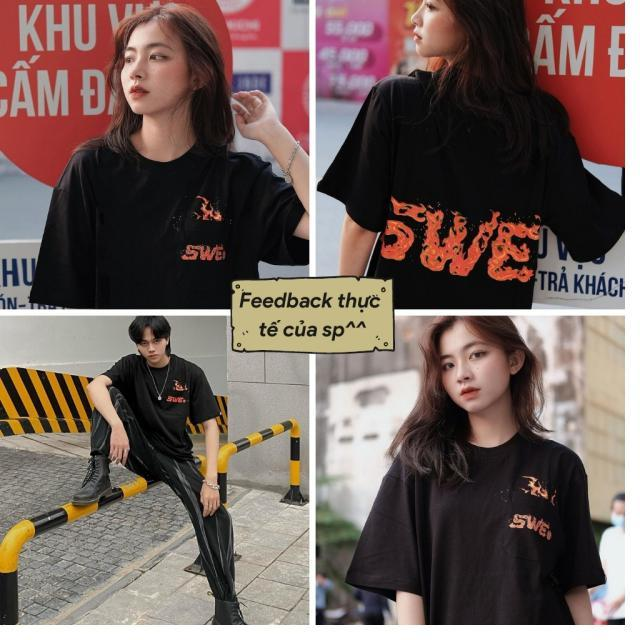Shirt: (320, 71, 626, 312), (343, 414, 614, 624), (22, 124, 312, 310), (101, 350, 222, 461)
